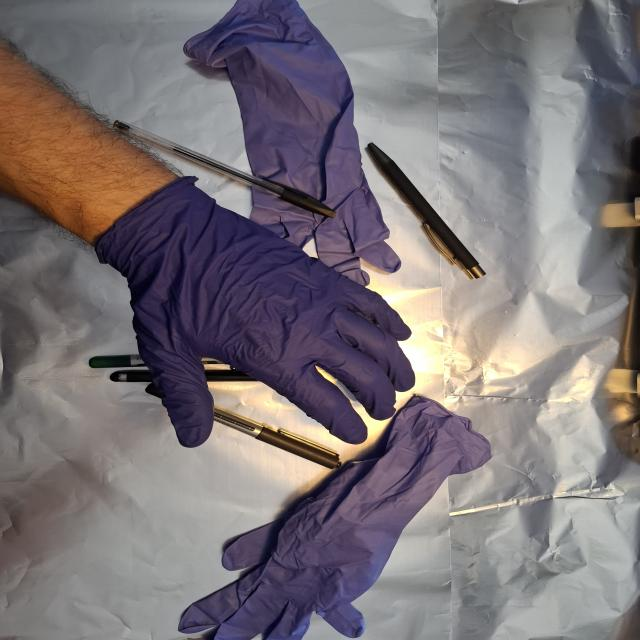glove_on: (98, 173, 418, 450)
